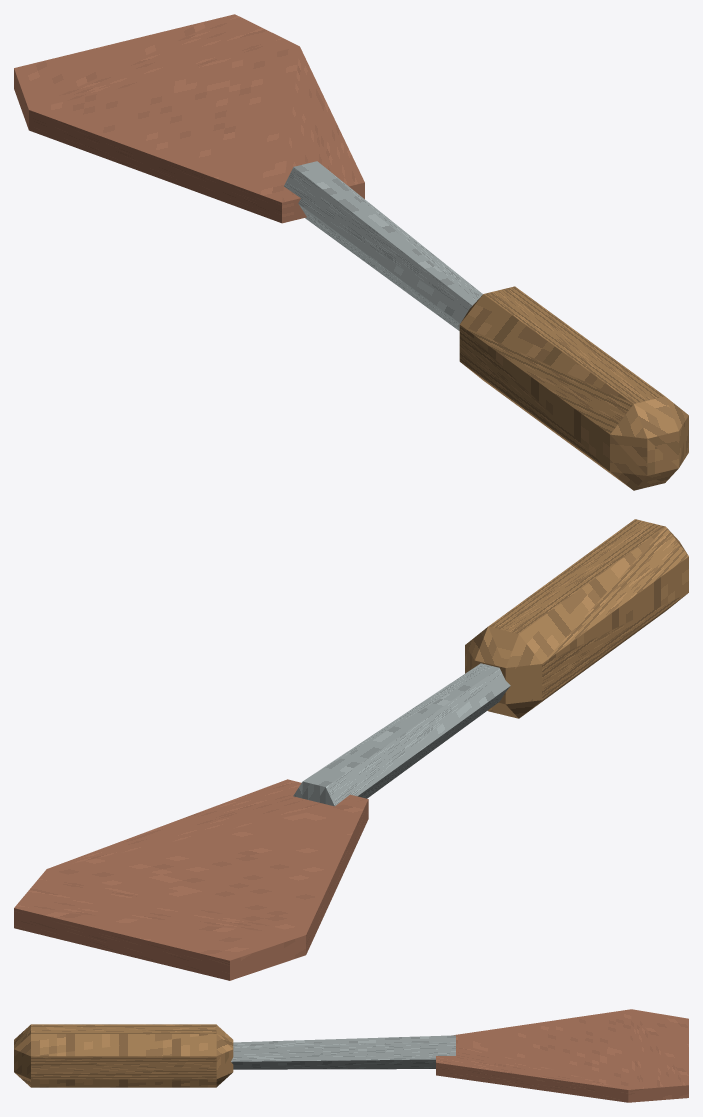
The model's file is spatula.glb.
3 renders of one model, top to bottom at view 1: azimuth 30°, elevation 25°; view 2: azimuth 150°, elevation 25°; view 3: azimuth 270°, elevation 25°, orthographic. The views are drawn at different scales.
Parts seen in each view (by area): view 1: block_broad blade, block_handle, block_steel shank; view 2: block_broad blade, block_handle, block_steel shank; view 3: block_broad blade, block_handle, block_steel shank.
Part boxes in pixels (<box>): block_broad blade: <box>14,14,364,223</box>; block_handle: <box>459,286,688,490</box>; block_steel shank: <box>284,161,482,330</box>; block_broad blade: <box>14,779,368,980</box>; block_handle: <box>465,519,688,718</box>; block_steel shank: <box>293,663,510,806</box>; block_broad blade: <box>436,1009,688,1102</box>; block_handle: <box>14,1024,233,1087</box>; block_steel shank: <box>231,1035,455,1069</box>.
Size of the model in its own units: 0.068 by 0.021 by 0.24.
1 material, 1 textured.
